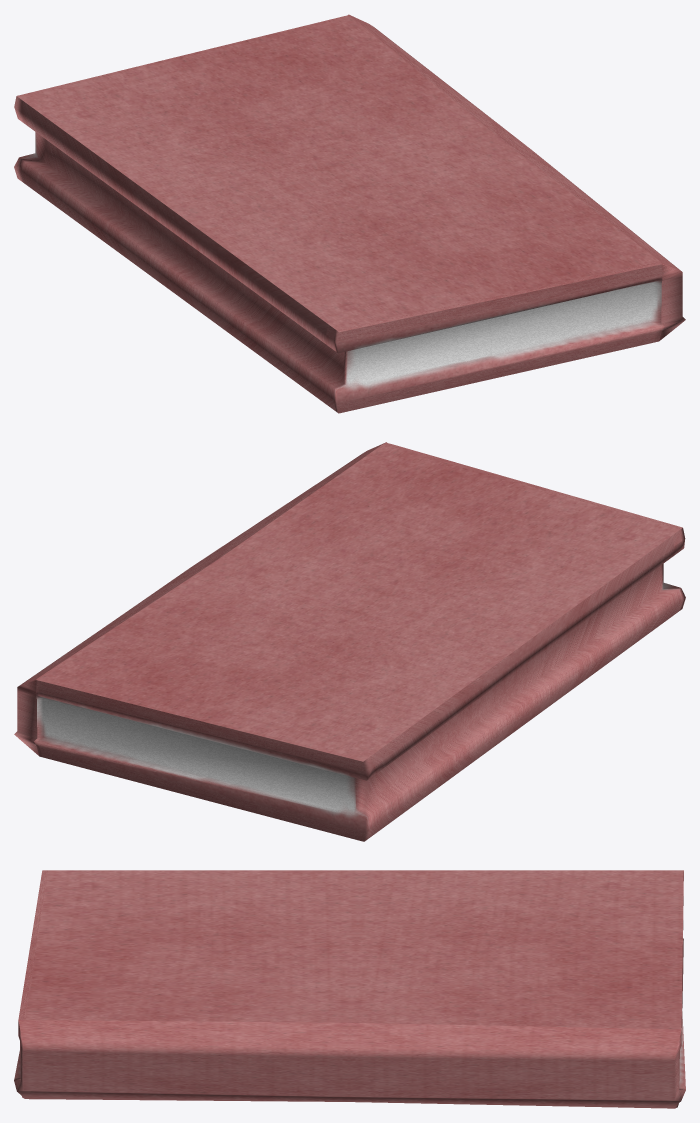
The model's file is book.fbx.
3 views of the same model, one above another, from view 1: azimuth 30°, elevation 25°; view 2: azimuth 150°, elevation 25°; view 3: azimuth 270°, elevation 25° (orthographic).
Parts seen in each view (by area): view 1: pCube1; view 2: pCube1; view 3: pCube1.
Boxes of the visible parts, bbox=[...] form: pCube1: bbox=[14, 14, 685, 413]; pCube1: bbox=[14, 442, 685, 841]; pCube1: bbox=[14, 870, 685, 1108].
Bounding box in the file's own units: 16 × 3.58 × 26.33.
